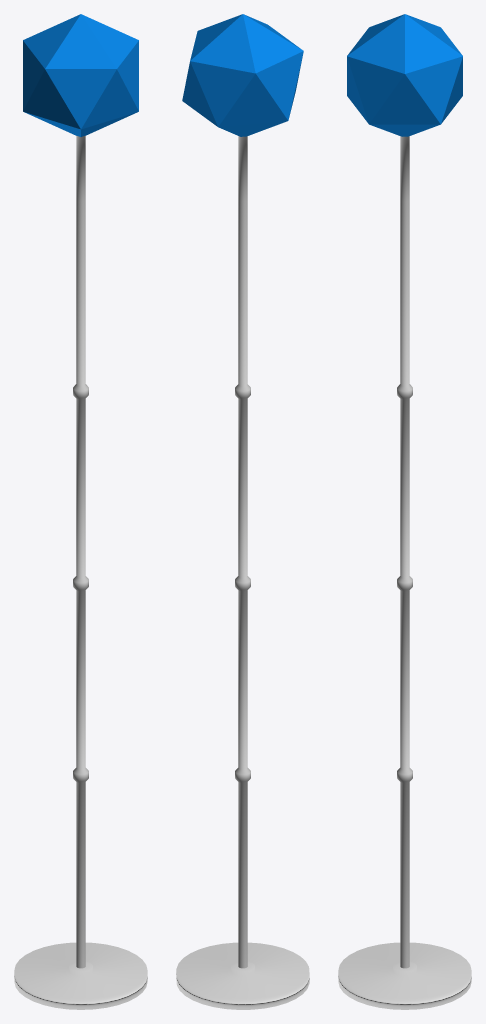
File: Disc swing.glb
The picture shows the model from 3 angles, left to right: view 1: azimuth 90°, elevation 25°; view 2: azimuth 210°, elevation 25°; view 3: azimuth 270°, elevation 25°; orthographic projection.
Visible parts, largest first — view 1: Joint.040, Cylinder.014, Cylinder.015; view 2: Joint.040, Cylinder.014, Cylinder.015; view 3: Joint.040, Cylinder.014, Cylinder.015.
Part boxes in pixels (x1=…): Joint.040: x1=23, y1=14, x2=138, y2=136; Cylinder.014: x1=73, y1=136, x2=88, y2=968; Cylinder.015: x1=14, y1=942, x2=147, y2=1009; Joint.040: x1=182, y1=14, x2=303, y2=136; Cylinder.014: x1=235, y1=136, x2=250, y2=968; Cylinder.015: x1=176, y1=942, x2=309, y2=1009; Joint.040: x1=347, y1=14, x2=462, y2=136; Cylinder.014: x1=397, y1=136, x2=412, y2=968; Cylinder.015: x1=338, y1=942, x2=471, y2=1009.
Bounding box in the file's own units: 0.2972 × 2.38 × 0.2972.
